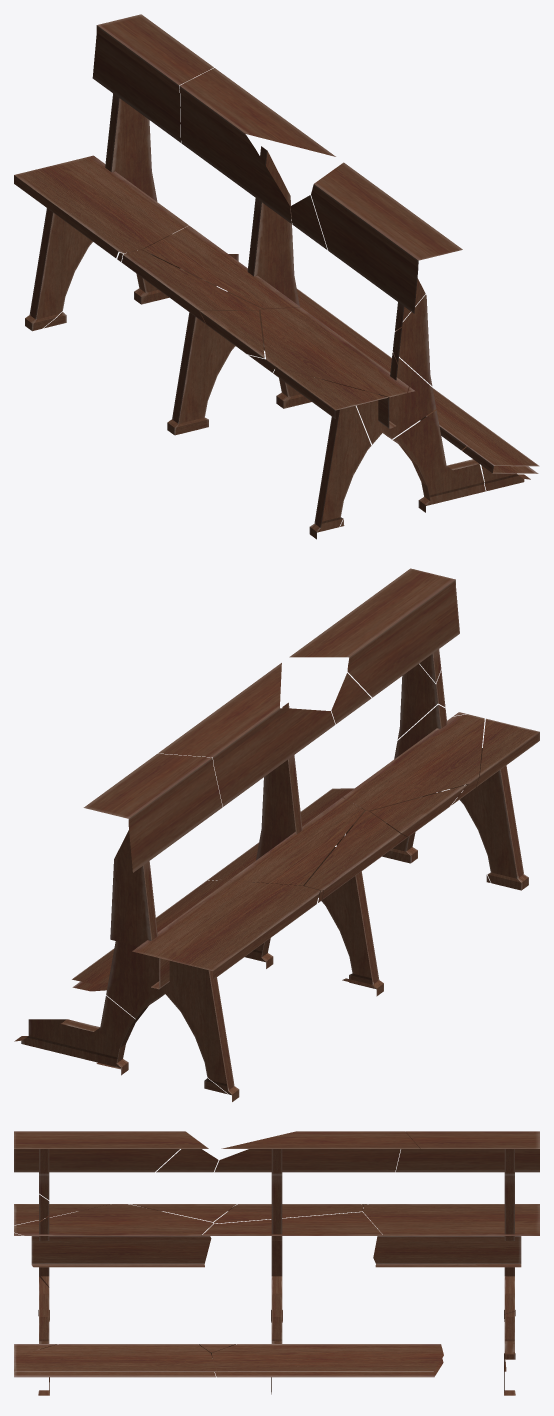
Rendered from church_Bench_fracted.fbx.
3 renders of one model, top to bottom at view 1: azimuth 30°, elevation 25°; view 2: azimuth 150°, elevation 25°; view 3: azimuth 270°, elevation 25°, orthographic. The views are drawn at different scales.
Visible parts, largest first — view 1: bench.001_cell.016, bench.001_cell.012, bench.001_cell.029, bench.001_cell.004, bench.001_cell.015, bench.001_cell.030, bench.001_cell.018, bench.001_cell.026, bench.001_cell.019, bench.001_cell.025, bench.001_cell.008, bench.001_cell.021 (+8 smaller); view 2: bench.001_cell.030, bench.001_cell.016, bench.001_cell.012, bench.001_cell.029, bench.001_cell.015, bench.001_cell.004, bench.001_cell.018, bench.001_cell.026, bench.001_cell.025, bench.001_cell.027, bench.001_cell.008, bench.001_cell.010 (+7 smaller); view 3: bench.001_cell.007, bench.001_cell.016, bench.001_cell.012, bench.001_cell.021, bench.001_cell.005, bench.001_cell.015, bench.001_cell.029, bench.001_cell.031, bench.001_cell.018, bench.001_cell.026, bench.001_cell.004, bench.001_cell.008 (+7 smaller).
Boxes of the visible parts, x1,y1,x2,y2 form: bench.001_cell.016: (311, 162, 462, 313); bench.001_cell.012: (179, 68, 335, 223); bench.001_cell.029: (14, 155, 188, 257); bench.001_cell.004: (167, 146, 313, 435); bench.001_cell.015: (92, 14, 213, 142); bench.001_cell.030: (25, 93, 157, 331); bench.001_cell.018: (248, 307, 408, 397); bench.001_cell.026: (142, 225, 299, 308); bench.001_cell.019: (391, 410, 485, 512); bench.001_cell.025: (309, 405, 371, 539); bench.001_cell.008: (121, 250, 262, 323); bench.001_cell.021: (420, 388, 539, 473); bench.001_cell.030: (106, 830, 239, 1101); bench.001_cell.016: (289, 568, 459, 697); bench.001_cell.012: (158, 663, 335, 806); bench.001_cell.029: (132, 880, 320, 979); bench.001_cell.015: (83, 753, 222, 872); bench.001_cell.004: (245, 702, 383, 996); bench.001_cell.018: (343, 714, 484, 810); bench.001_cell.026: (229, 797, 364, 885); bench.001_cell.025: (459, 748, 528, 890); bench.001_cell.027: (14, 996, 136, 1075); bench.001_cell.008: (304, 810, 407, 899); bench.001_cell.010: (476, 718, 539, 786); bench.001_cell.007: (211, 1344, 443, 1377); bench.001_cell.016: (14, 1131, 208, 1172); bench.001_cell.012: (214, 1131, 419, 1172); bench.001_cell.021: (14, 1344, 216, 1377); bench.001_cell.005: (31, 1235, 211, 1267); bench.001_cell.015: (396, 1131, 539, 1172); bench.001_cell.029: (363, 1204, 539, 1235); bench.001_cell.031: (373, 1235, 521, 1267); bench.001_cell.018: (14, 1204, 212, 1235); bench.001_cell.026: (202, 1212, 383, 1235); bench.001_cell.004: (271, 1149, 282, 1342); bench.001_cell.008: (213, 1204, 363, 1223).
Size of the model in its own units: 76.62 by 91.78 by 199.
